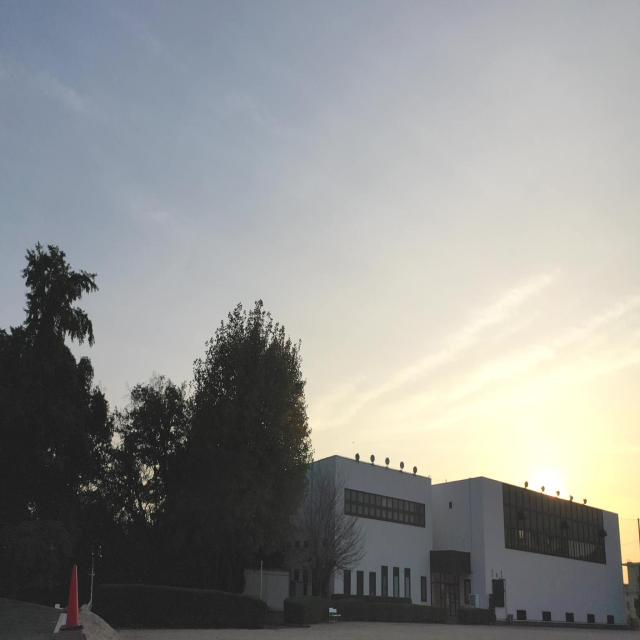Birds: (350, 438, 356, 446)
